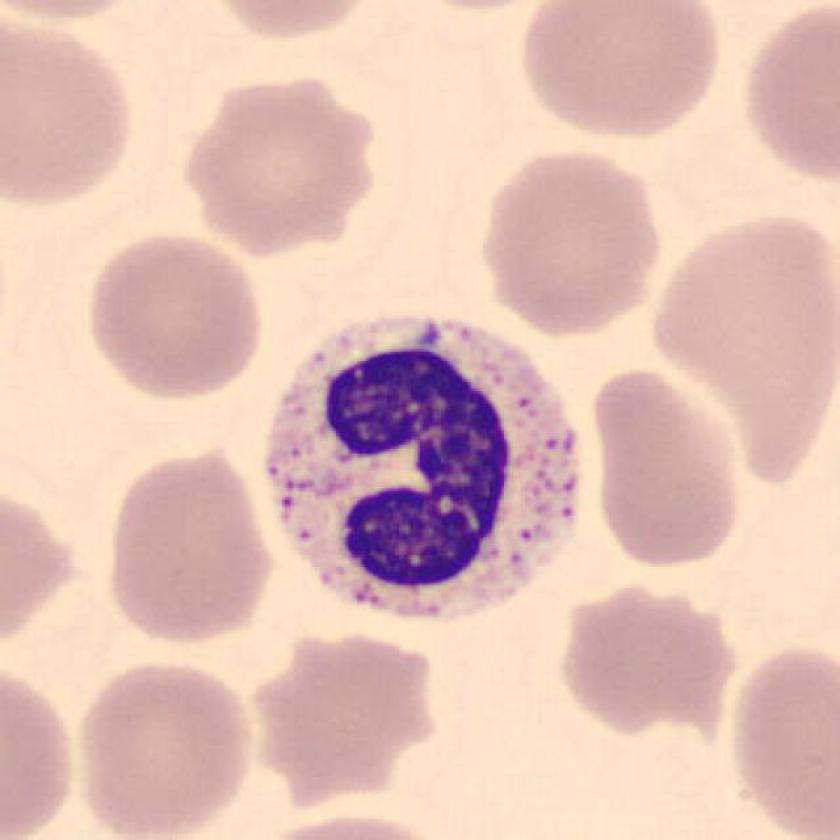neutrophil: (269, 310, 577, 623)
